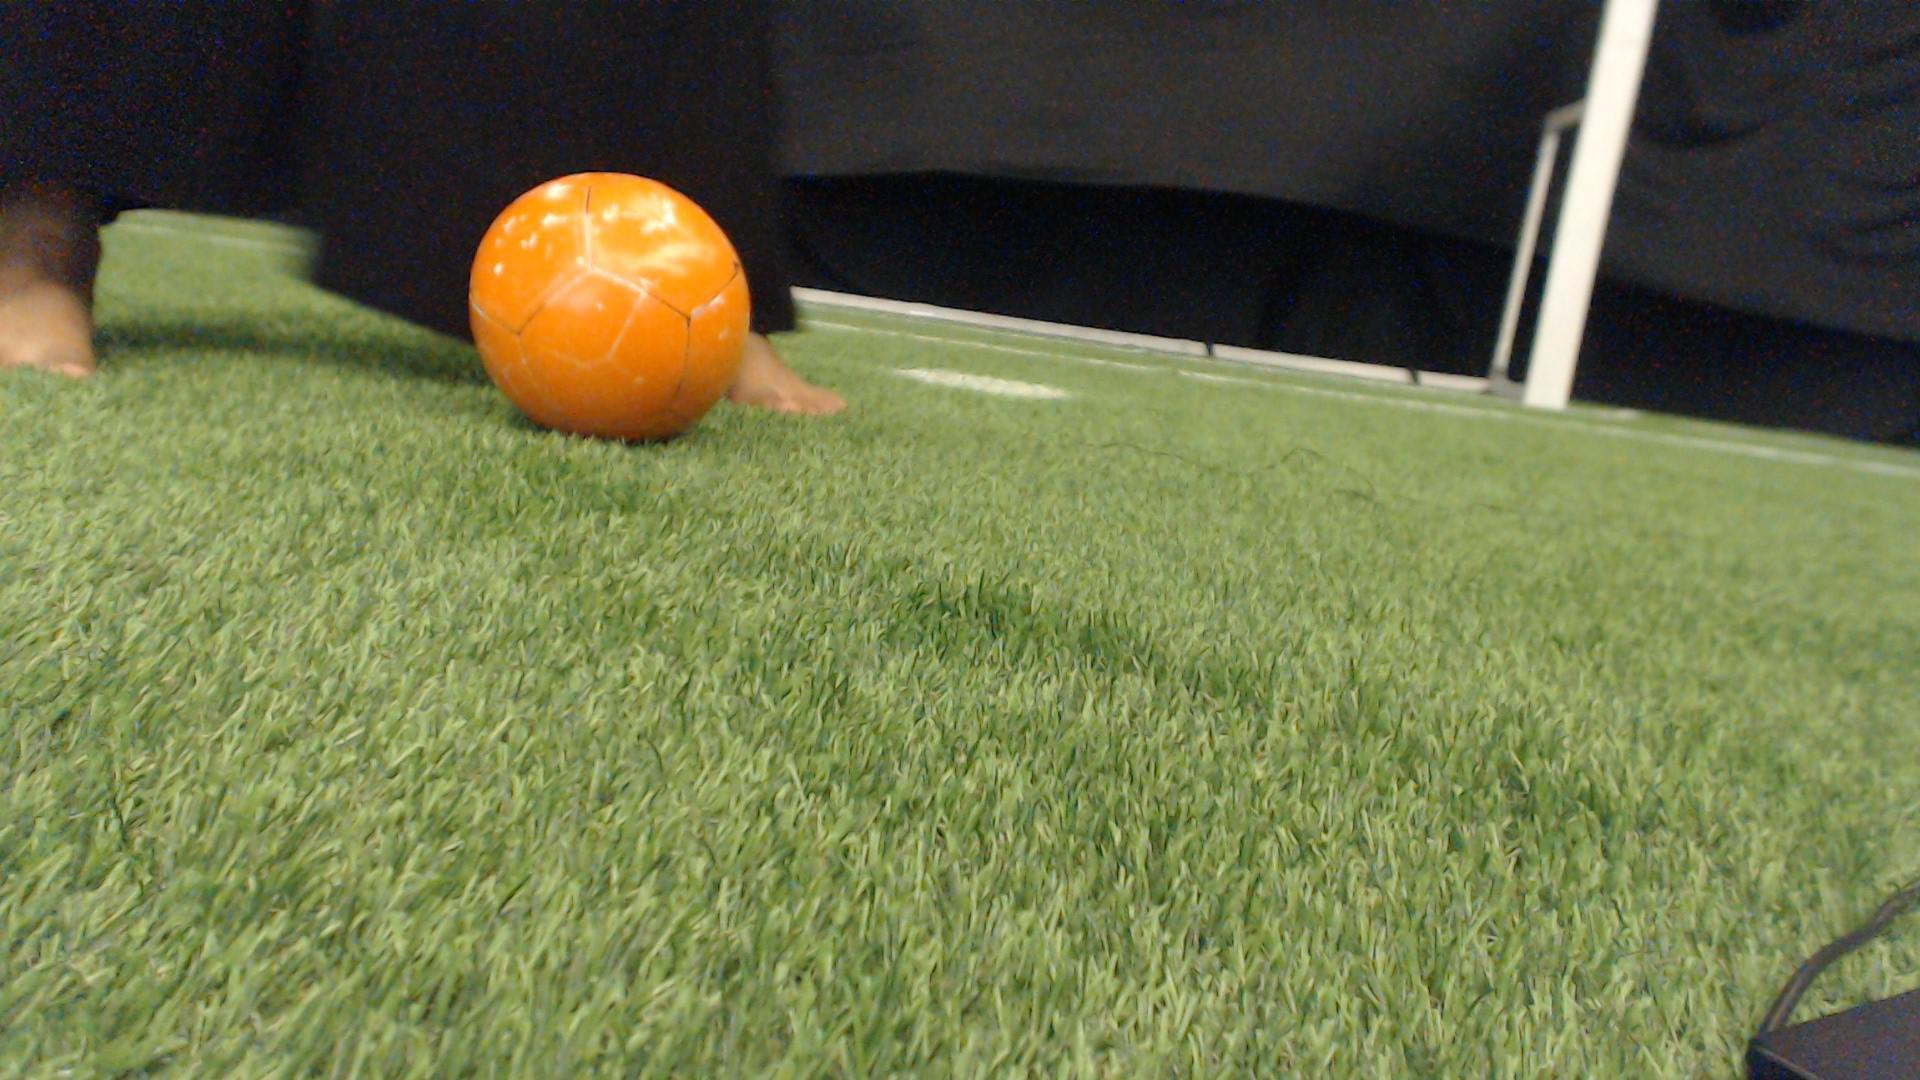bola: (455, 160, 767, 455)
